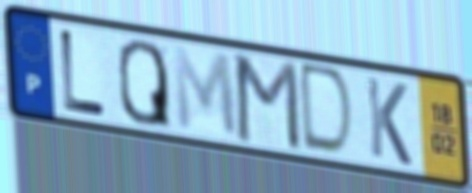D: (299, 59, 357, 162)
K: (363, 73, 415, 170)
L: (58, 26, 109, 120)
M: (233, 52, 304, 155), (169, 42, 242, 142)
Q: (115, 36, 174, 131)
